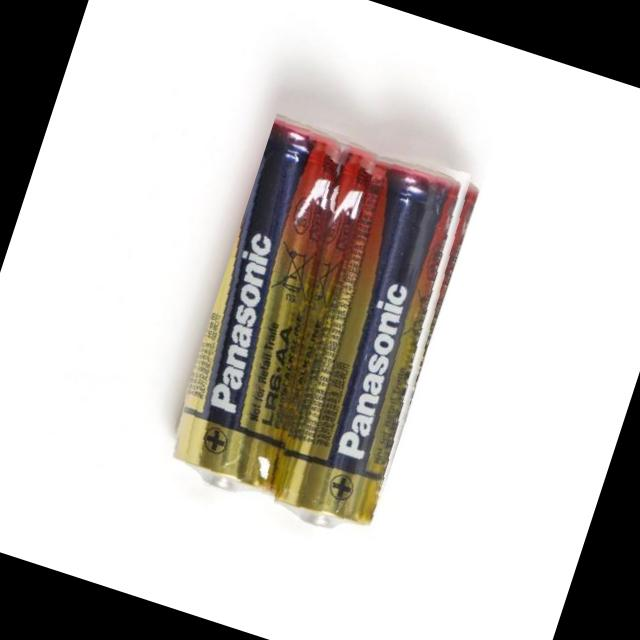Hazard: (158, 112, 389, 510), (263, 144, 490, 544)
